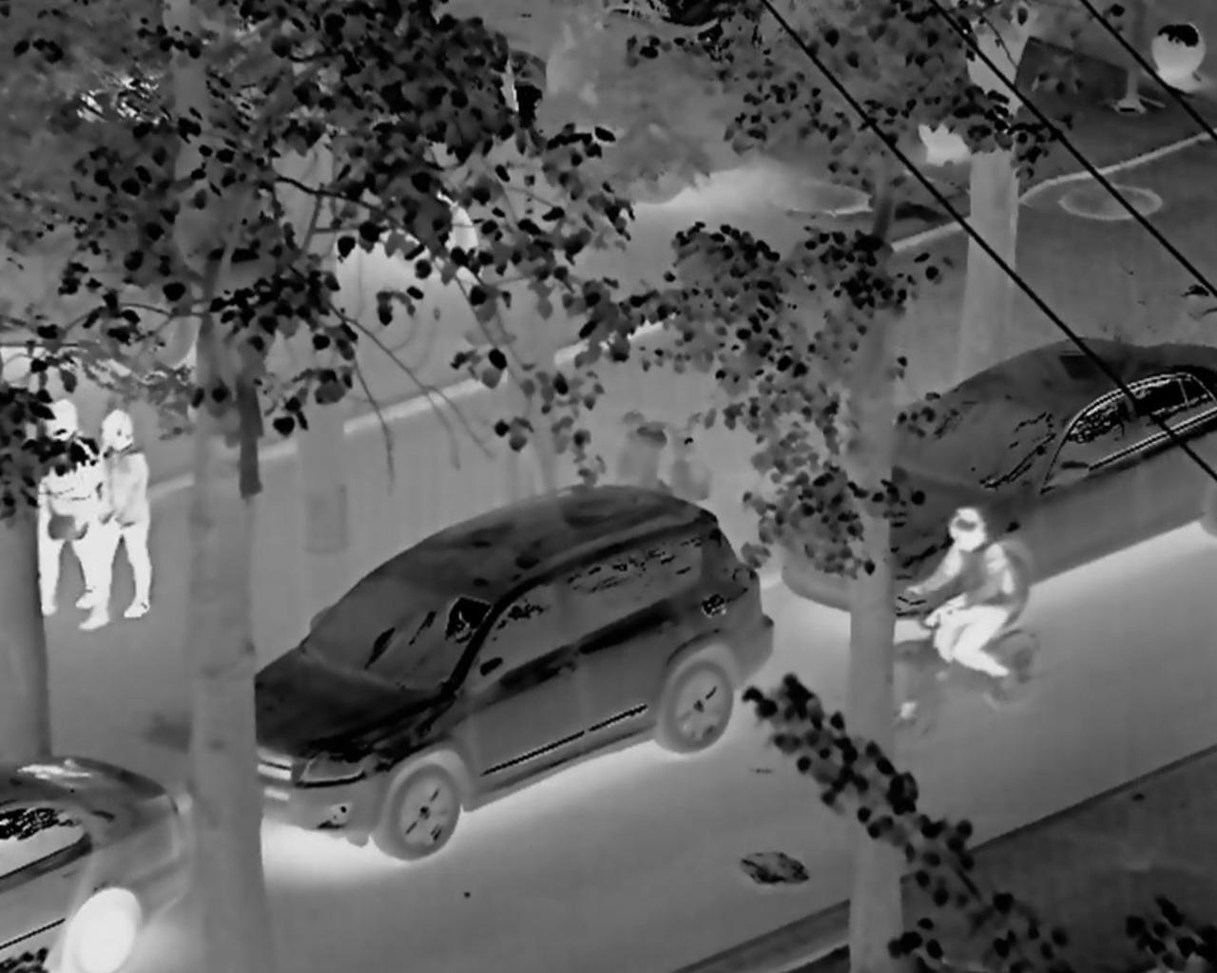person: (872, 475, 1043, 738), (16, 389, 113, 623), (84, 395, 162, 680)
